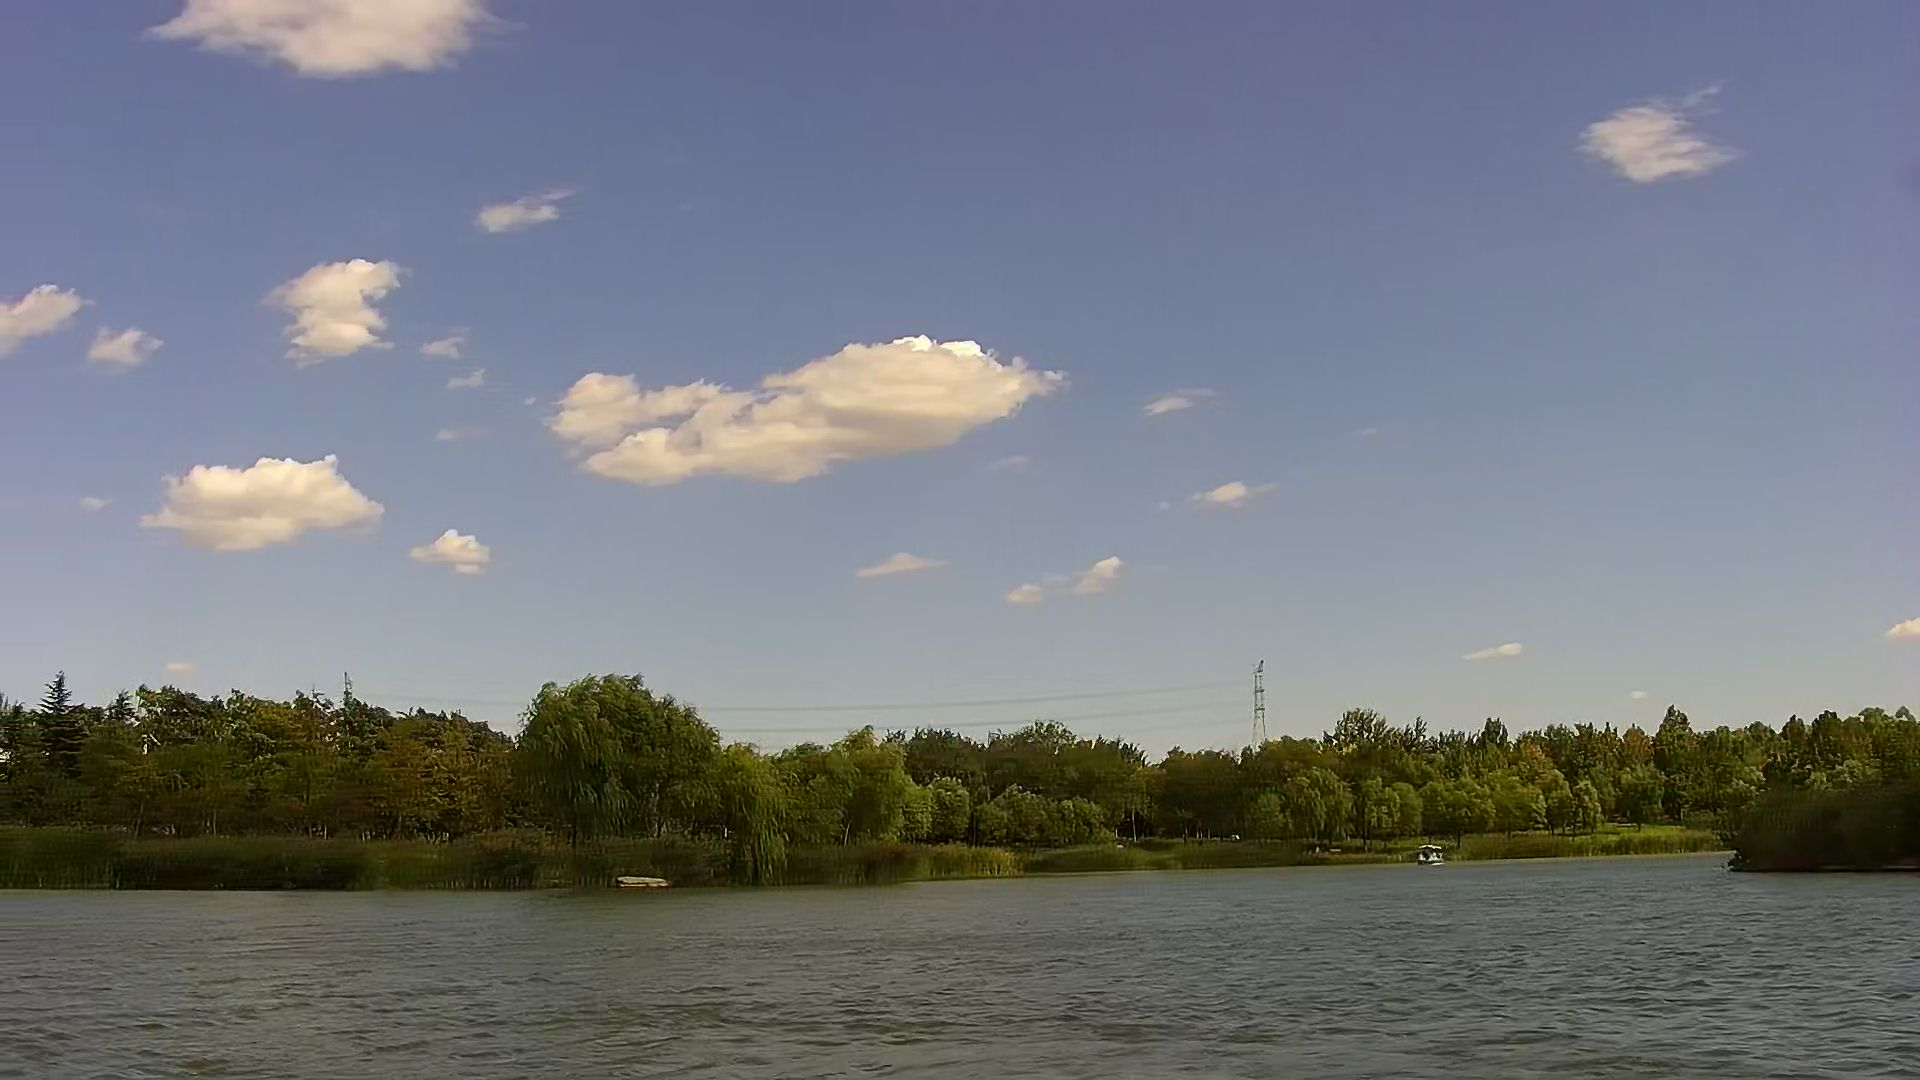boat: (1414, 837, 1440, 864)
rock: (618, 872, 665, 894)
